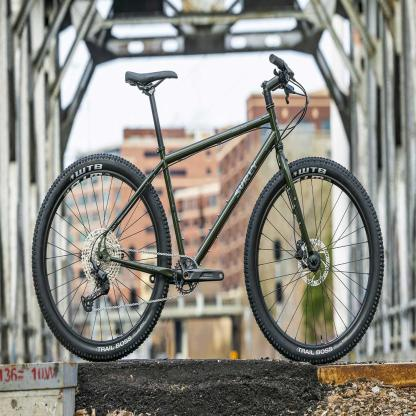Bike: (32, 52, 386, 365)
